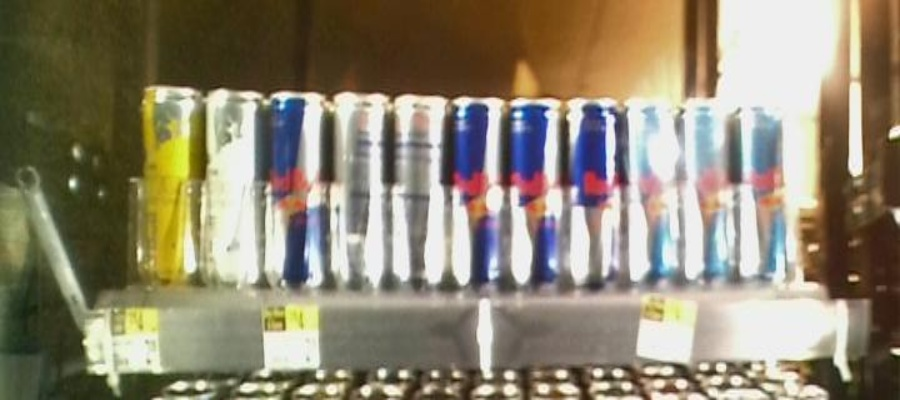bottle: (330, 71, 390, 297), (140, 73, 200, 280), (268, 81, 325, 291), (208, 75, 262, 293), (451, 83, 505, 295), (509, 79, 562, 295), (629, 73, 680, 295), (394, 77, 442, 297), (571, 83, 620, 291), (740, 92, 789, 295), (688, 83, 734, 287)
